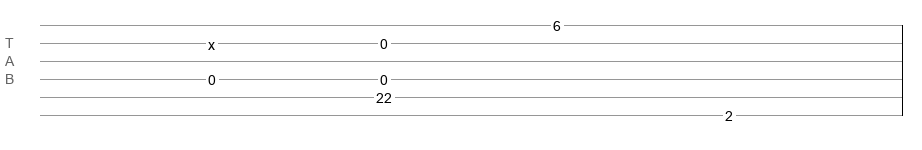0: (208, 72, 216, 82), (380, 72, 388, 82), (380, 36, 388, 46)
2: (725, 108, 733, 118)
22: (376, 90, 392, 100)
6: (553, 18, 561, 28)
x: (208, 37, 215, 45)
